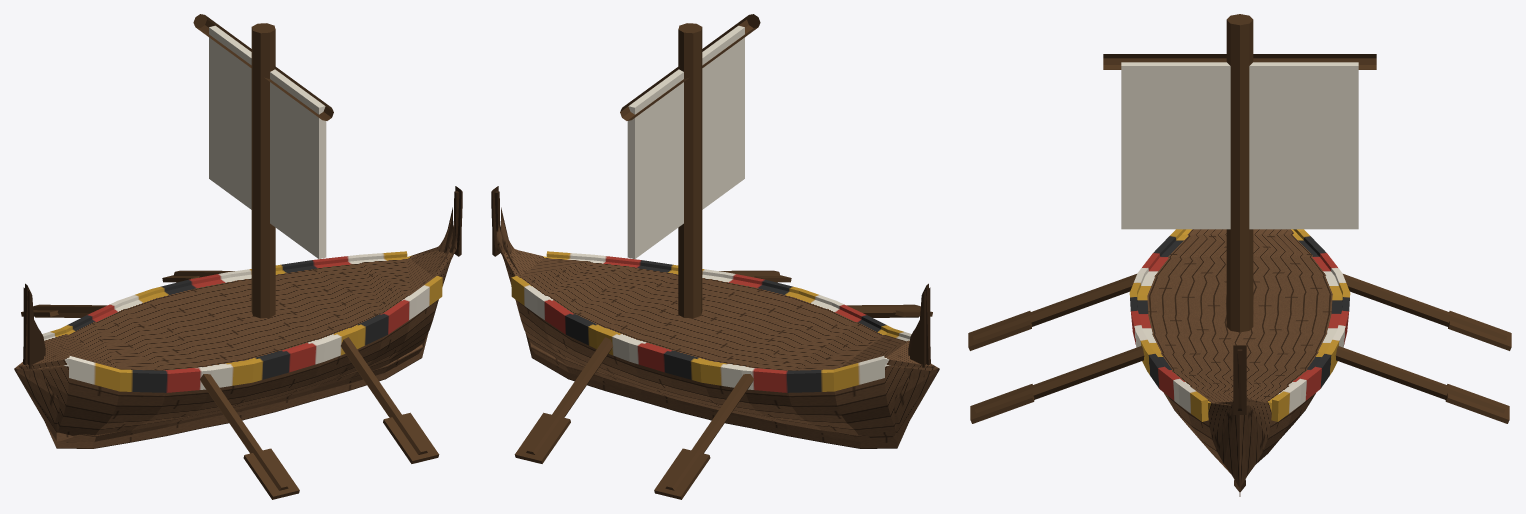
File: war-boat.glb
3 views of the same model, side by side, from view 1: azimuth 30°, elevation 25°; view 2: azimuth 150°, elevation 25°; view 3: azimuth 270°, elevation 25° (orthographic). The views are drawn at different scales.
Visible parts, largest first — view 1: hull, sail, mast, oar_starboard_2_shaft, oar_starboard_1_shaft, yard, oar_port_2_shaft, oar_port_1_shaft; view 2: hull, sail, mast, oar_port_2_shaft, oar_port_1_shaft, yard, oar_starboard_2_shaft, oar_starboard_1_shaft; view 3: sail, hull, mast, oar_starboard_1_shaft, oar_port_1_shaft, oar_port_2_shaft, oar_starboard_2_shaft, yard.
Boxes of the visible parts, x1,y1,x2,y2 form: hull: [14, 186, 462, 448]; sail: [209, 25, 326, 259]; mast: [251, 23, 275, 318]; oar_starboard_2_shaft: [200, 374, 299, 499]; oar_starboard_1_shaft: [341, 337, 439, 463]; yard: [193, 14, 333, 120]; oar_port_2_shaft: [21, 304, 106, 317]; oar_port_1_shaft: [162, 270, 234, 282]; hull: [491, 186, 939, 448]; sail: [627, 25, 744, 259]; mast: [678, 23, 702, 318]; oar_port_2_shaft: [654, 374, 754, 499]; oar_port_1_shaft: [514, 337, 612, 463]; yard: [620, 14, 760, 120]; oar_starboard_2_shaft: [847, 304, 932, 317]; oar_starboard_1_shaft: [719, 270, 791, 282]; sail: [1121, 62, 1358, 229]; hull: [1129, 229, 1350, 496]; mast: [1226, 14, 1253, 332]; oar_starboard_1_shaft: [970, 346, 1144, 423]; oar_port_1_shaft: [1335, 346, 1509, 423]; oar_port_2_shaft: [1343, 274, 1511, 350]; oar_starboard_2_shaft: [968, 274, 1136, 350]; yard: [1103, 54, 1376, 69].
Size of the model in its own units: 0.9187 by 0.759 by 0.8962.
Materials: 2 (1 with a texture image).
